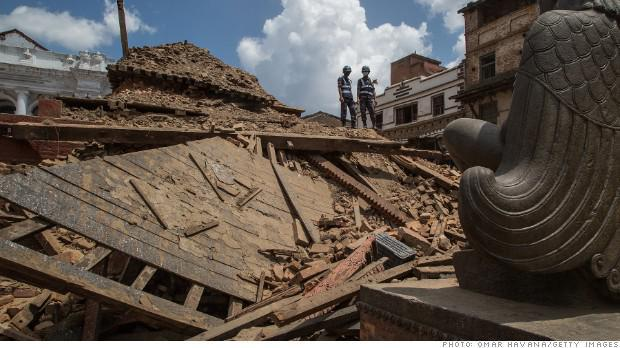destroyed: (2, 36, 462, 332)
